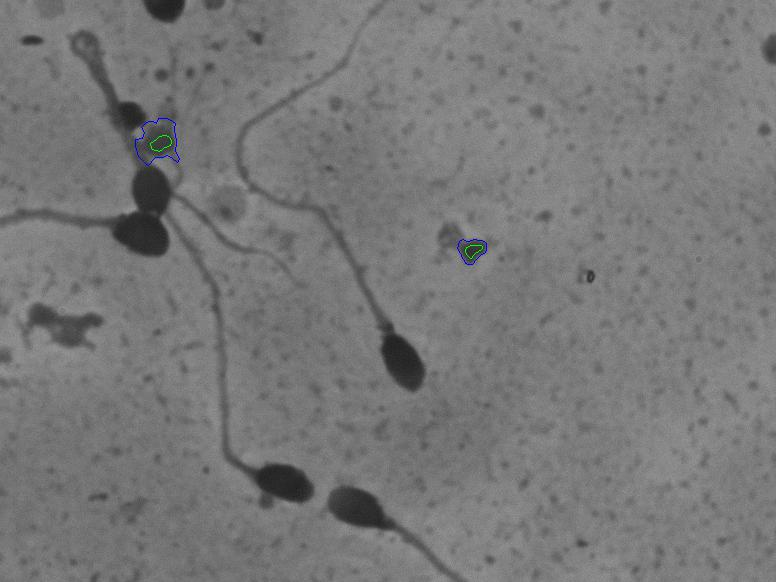Abnormal: (161, 293, 320, 522)
Normal: (226, 10, 436, 405)
